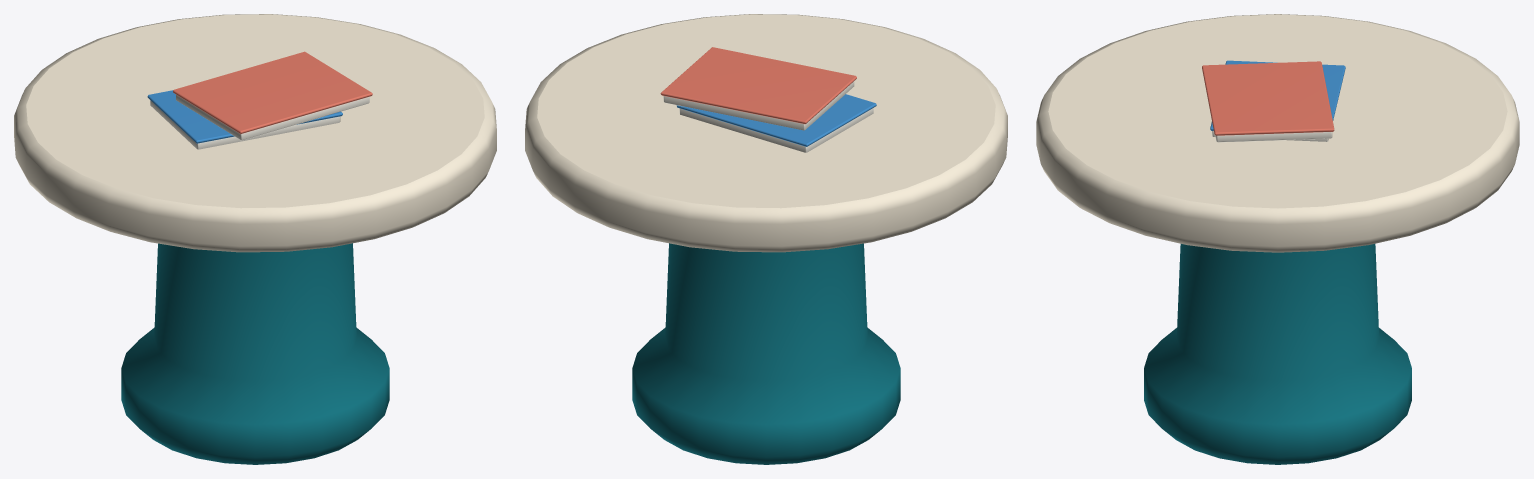
Rendered from Reception_Round_Side_Table.glb.
3 renders of one model, left to right at view 1: azimuth 30°, elevation 25°; view 2: azimuth 150°, elevation 25°; view 3: azimuth 270°, elevation 25°, orthographic.
Parts seen in each view (by area): view 1: Reception_Round_Side_Table__Visual, Reception_Round_Side_Table__Graphics; view 2: Reception_Round_Side_Table__Visual, Reception_Round_Side_Table__Graphics; view 3: Reception_Round_Side_Table__Visual, Reception_Round_Side_Table__Graphics.
Boxes of the visible parts, <box> form: Reception_Round_Side_Table__Visual: <box>14,14,496,464</box>; Reception_Round_Side_Table__Graphics: <box>173,51,372,133</box>; Reception_Round_Side_Table__Visual: <box>525,14,1007,464</box>; Reception_Round_Side_Table__Graphics: <box>660,47,856,124</box>; Reception_Round_Side_Table__Visual: <box>1036,14,1519,464</box>; Reception_Round_Side_Table__Graphics: <box>1202,61,1334,135</box>.
Size of the model in its own units: 0.74 by 0.548 by 0.74.
Materials: 2 (2 with a texture image).
